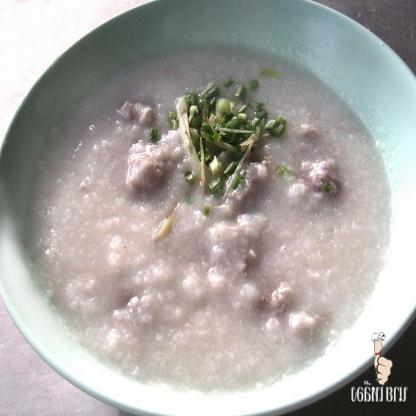Joke: (14, 25, 388, 396)
